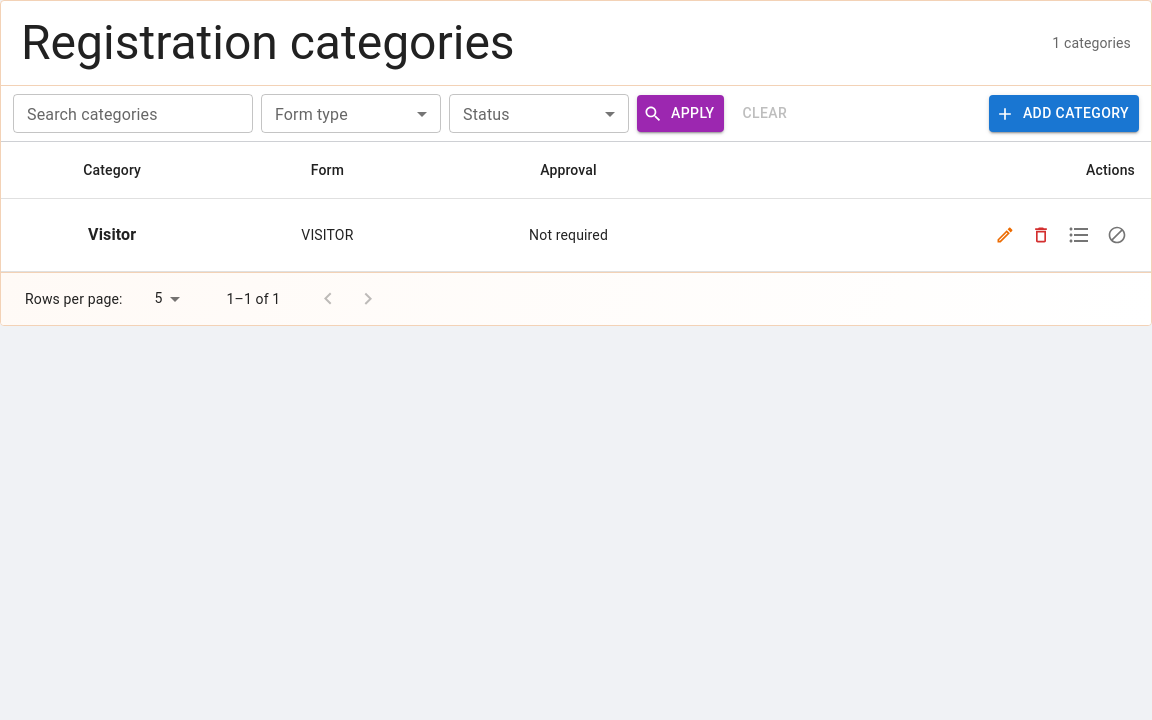
Test: explains that an in-use category cannot be deleted
Check: the text "Visitor" is shown, box [88,225,136,244]
Click the button named "Delete Visitor" at (1041, 235), box [1023,217,1059,253]
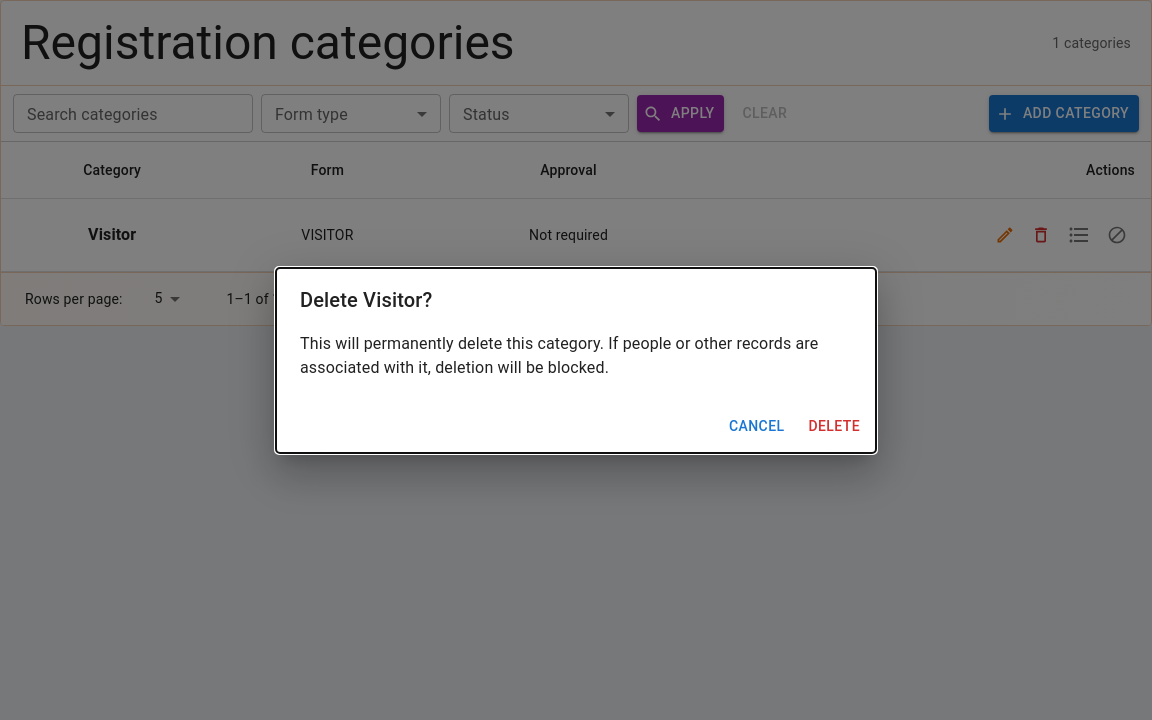
Click the button "Delete" at (834, 426), box [800,408,868,444]
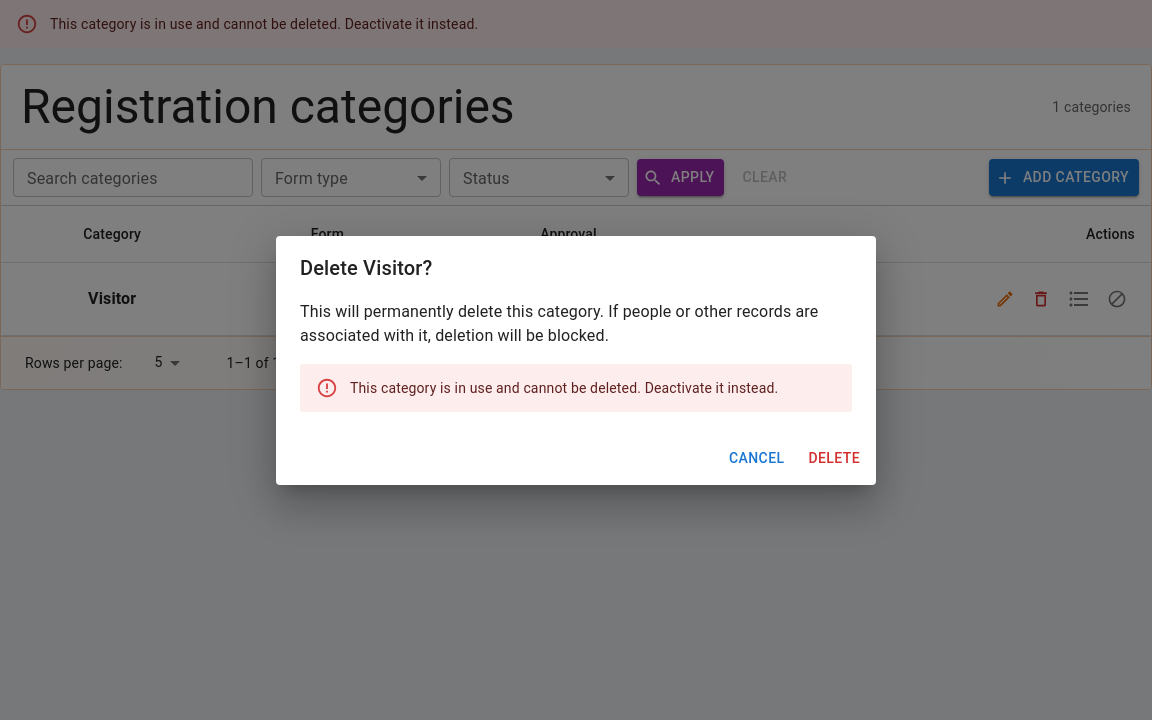
Check: the 1st text "This category is in use and cannot be deleted. Deactivate it instead." is shown, box [50,16,478,32]
